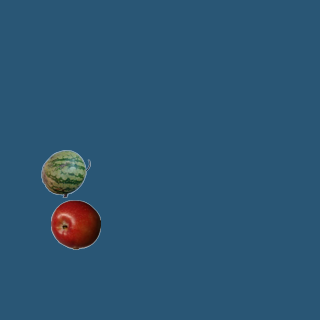Apple Braeburn: (50, 199, 100, 249)
Watermelon: (40, 148, 90, 198)
